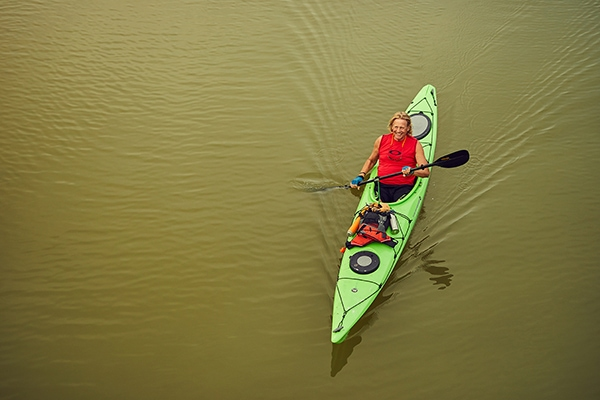kayaker: (304, 82, 471, 348)
